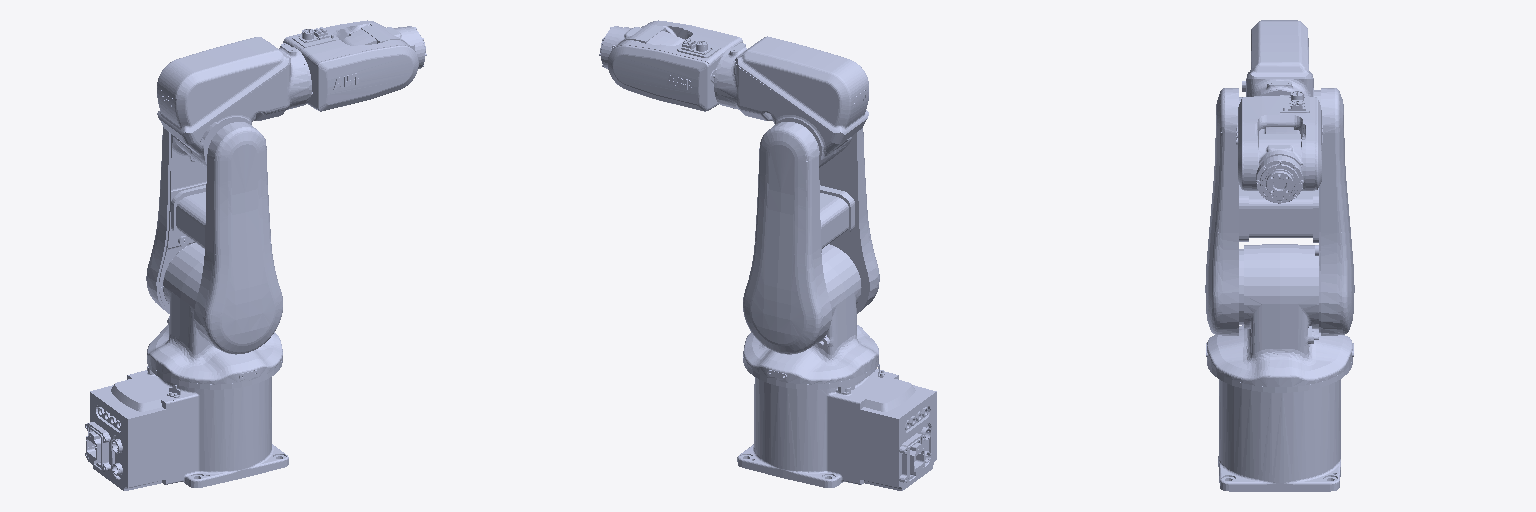
The robot description file, URDF, robot "ABB_IRB120":
<robot
  name="ABB_IRB120">
  <link
    name="BASE">
    <inertial>
      <origin
        xyz="-0.042 0 0.08"
        rpy="0 0 0" />
      <mass
        value="6.215" />
      <inertia
        ixx="0.025"
        ixy="0"
        ixz="0.001"
        iyy="0.049"
        iyz="0"
        izz="0.047" />
    </inertial>
    <visual>
      <origin
        xyz="0 0 0"
        rpy="0 0 0" />
      <geometry>
        <mesh
          filename="package://ABB_IRB120/meshes/BASE.STL" />
      </geometry>
      <material
        name="">
        <color
          rgba="0.79216 0.81961 0.93333 1" />
      </material>
    </visual>
    <collision>
      <origin
        xyz="0 0 0"
        rpy="0 0 0" />
      <geometry>
        <mesh
          filename="package://ABB_IRB120/meshes/BASE.STL" />
      </geometry>
    </collision>
  </link>
  <link
    name="LINK1">
    <inertial>
      <origin
        xyz="0 0 0.07"
        rpy="0 0 0" />
      <mass
        value="3.067" />
      <inertia
        ixx="0.014"
        ixy="0"
        ixz="0"
        iyy="0.014"
        iyz="0"
        izz="0.01" />
    </inertial>
    <visual>
      <origin
        xyz="0 0 0"
        rpy="0 0 0" />
      <geometry>
        <mesh
          filename="package://ABB_IRB120/meshes/LINK1.STL" />
      </geometry>
      <material
        name="">
        <color
          rgba="0.79216 0.81961 0.93333 1" />
      </material>
    </visual>
    <collision>
      <origin
        xyz="0 0 0"
        rpy="0 0 0" />
      <geometry>
        <mesh
          filename="package://ABB_IRB120/meshes/LINK1.STL" />
      </geometry>
    </collision>
  </link>
  <joint
    name="LINK1_JOINT"
    type="continuous">
    <origin
      xyz="0 0 0.168"
      rpy="0 0 0" />
    <parent
      link="BASE" />
    <child
      link="LINK1" />
    <axis
      xyz="0 1 0" />
  </joint>
  <link
    name="LINK2">
    <inertial>
      <origin
        xyz="-0.001 0.002 0.101"
        rpy="0 0 0" />
      <mass
        value="3.909" />
      <inertia
        ixx="0.06"
        ixy="0"
        ixz="0"
        iyy="0.042"
        iyz="0.001"
        izz="0.026" />
    </inertial>
    <visual>
      <origin
        xyz="0 0 0"
        rpy="0 0 0" />
      <geometry>
        <mesh
          filename="package://ABB_IRB120/meshes/LINK2.STL" />
      </geometry>
      <material
        name="">
        <color
          rgba="0.79216 0.81961 0.93333 1" />
      </material>
    </visual>
    <collision>
      <origin
        xyz="0 0 0"
        rpy="0 0 0" />
      <geometry>
        <mesh
          filename="package://ABB_IRB120/meshes/LINK2.STL" />
      </geometry>
    </collision>
  </link>
  <joint
    name="LINK2_JOINT"
    type="continuous">
    <origin
      xyz="0 0 0.122"
      rpy="0 0 0" />
    <parent
      link="LINK1" />
    <child
      link="LINK2" />
    <axis
      xyz="0 1 0" />
  </joint>
  <link
    name="LINK3">
    <inertial>
      <origin
        xyz="0.023 -0.001 0.058"
        rpy="0 0 0" />
      <mass
        value="2.92" />
      <inertia
        ixx="0.008"
        ixy="0"
        ixz="0.001"
        iyy="0.017"
        iyz="0"
        izz="0.013" />
    </inertial>
    <visual>
      <origin
        xyz="0 0 0"
        rpy="0 0 0" />
      <geometry>
        <mesh
          filename="package://ABB_IRB120/meshes/LINK3.STL" />
      </geometry>
      <material
        name="">
        <color
          rgba="0.79216 0.81961 0.93333 1" />
      </material>
    </visual>
    <collision>
      <origin
        xyz="0 0 0"
        rpy="0 0 0" />
      <geometry>
        <mesh
          filename="package://ABB_IRB120/meshes/LINK3.STL" />
      </geometry>
    </collision>
  </link>
  <joint
    name="LINK3_JOINT"
    type="continuous">
    <origin
      xyz="0 0 0.27"
      rpy="0 0 0" />
    <parent
      link="LINK2" />
    <child
      link="LINK3" />
    <axis
      xyz="0 1 0" />
  </joint>
  <link
    name="LINK4">
    <inertial>
      <origin
        xyz="0.076 -0.005 0"
        rpy="0 0 0" />
      <mass
        value="1.448" />
      <inertia
        ixx="0.003"
        ixy="0"
        ixz="0"
        iyy="0.004"
        iyz="0"
        izz="0.006" />
    </inertial>
    <visual>
      <origin
        xyz="0 0 0"
        rpy="0 0 0" />
      <geometry>
        <mesh
          filename="package://ABB_IRB120/meshes/LINK4.STL" />
      </geometry>
      <material
        name="">
        <color
          rgba="0.79216 0.81961 0.93333 1" />
      </material>
    </visual>
    <collision>
      <origin
        xyz="0 0 0"
        rpy="0 0 0" />
      <geometry>
        <mesh
          filename="package://ABB_IRB120/meshes/LINK4.STL" />
      </geometry>
    </collision>
  </link>
  <joint
    name="LINK4_JOINT"
    type="continuous">
    <origin
      xyz="0.15 0 0.07"
      rpy="0 0 0" />
    <parent
      link="LINK3" />
    <child
      link="LINK4" />
    <axis
      xyz="-1 0 0" />
  </joint>
  <link
    name="LINK5">
    <inertial>
      <origin
        xyz="-0.001 0 0"
        rpy="0 0 0" />
      <mass
        value="0.547" />
      <inertia
        ixx="0"
        ixy="0"
        ixz="0"
        iyy="0.001"
        iyz="0"
        izz="0.001" />
    </inertial>
    <visual>
      <origin
        xyz="0 0 0"
        rpy="0 0 0" />
      <geometry>
        <mesh
          filename="package://ABB_IRB120/meshes/LINK5.STL" />
      </geometry>
      <material
        name="">
        <color
          rgba="0.79216 0.81961 0.93333 1" />
      </material>
    </visual>
    <collision>
      <origin
        xyz="0 0 0"
        rpy="0 0 0" />
      <geometry>
        <mesh
          filename="package://ABB_IRB120/meshes/LINK5.STL" />
      </geometry>
    </collision>
  </link>
  <joint
    name="LINK5_JOINT"
    type="continuous">
    <origin
      xyz="0.152 0 0"
      rpy="0 0 0" />
    <parent
      link="LINK4" />
    <child
      link="LINK5" />
    <axis
      xyz="0 1 0" />
  </joint>
  <link
    name="LINK6">
    <inertial>
      <origin
        xyz="-0.007 0 0"
        rpy="0 0 0" />
      <mass
        value="0.014" />
      <inertia
        ixx="0"
        ixy="0"
        ixz="0"
        iyy="0"
        iyz="0"
        izz="0" />
    </inertial>
    <visual>
      <origin
        xyz="0 0 0"
        rpy="0 0 0" />
      <geometry>
        <mesh
          filename="package://ABB_IRB120/meshes/LINK6.STL" />
      </geometry>
      <material
        name="">
        <color
          rgba="0.79216 0.81961 0.93333 1" />
      </material>
    </visual>
    <collision>
      <origin
        xyz="0 0 0"
        rpy="0 0 0" />
      <geometry>
        <mesh
          filename="package://ABB_IRB120/meshes/LINK6.STL" />
      </geometry>
    </collision>
  </link>
  <joint
    name="LINK6_JOINT"
    type="continuous">
    <origin
      xyz="0.072 0 0"
      rpy="0 0 0" />
    <parent
      link="LINK5" />
    <child
      link="LINK6" />
    <axis
      xyz="-1 0 0" />
  </joint>
</robot>

--- Facts derived from the render (not from the file) ---
Views: 3 orthographic renders of the robot side by side, from view 1: azimuth 30°, elevation 25°; view 2: azimuth 150°, elevation 25°; view 3: azimuth 270°, elevation 25°.
Model ABB_IRB120 with 7 links and 6 joints (6 continuous), rooted at BASE, posed all joints at 0.
Links seen in each view (by area): view 1: LINK2, BASE, LINK3, LINK1, LINK4, LINK5; view 2: LINK2, BASE, LINK3, LINK1, LINK4, LINK5; view 3: LINK2, LINK1, BASE, LINK4, LINK3, LINK5, LINK6.
Boxes of the visible links, box(x1,y1,x2,y2) form: LINK2: box(146, 122, 282, 354); BASE: box(85, 366, 288, 490); LINK3: box(157, 37, 312, 167); LINK1: box(147, 243, 282, 389); LINK4: box(283, 20, 418, 111); LINK5: box(342, 24, 426, 68); LINK2: box(743, 122, 879, 354); BASE: box(737, 364, 936, 490); LINK3: box(714, 36, 868, 167); LINK1: box(743, 244, 878, 392); LINK4: box(608, 20, 742, 111); LINK5: box(599, 24, 684, 68); LINK2: box(1205, 88, 1354, 335); LINK1: box(1206, 244, 1353, 392); BASE: box(1218, 379, 1340, 491); LINK4: box(1236, 91, 1322, 190); LINK3: box(1239, 20, 1313, 103); LINK5: box(1256, 127, 1303, 203); LINK6: box(1266, 171, 1292, 196).
Size in the robot's own frame: 0.5852 by 0.2193 by 0.6996 metres.
7 mesh visuals loaded from 7 distinct referenced files (7 binary STL).